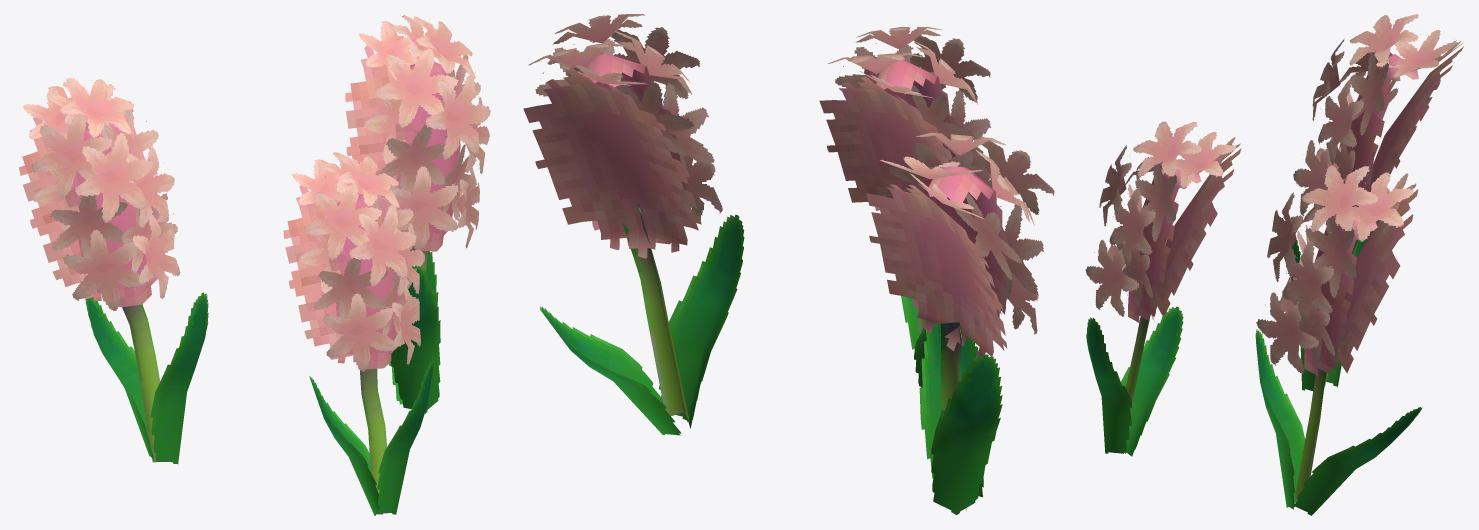
The model's file is pink-hyacinths.glb.
The picture shows the model from 3 angles, left to right: view 1: azimuth 30°, elevation 25°; view 2: azimuth 150°, elevation 25°; view 3: azimuth 270°, elevation 25°; orthographic projection. The views are drawn at different scales.
Size of the model in its own units: 9.35 by 7.63 by 7.18.
Materials: 2 (2 with a texture image).
